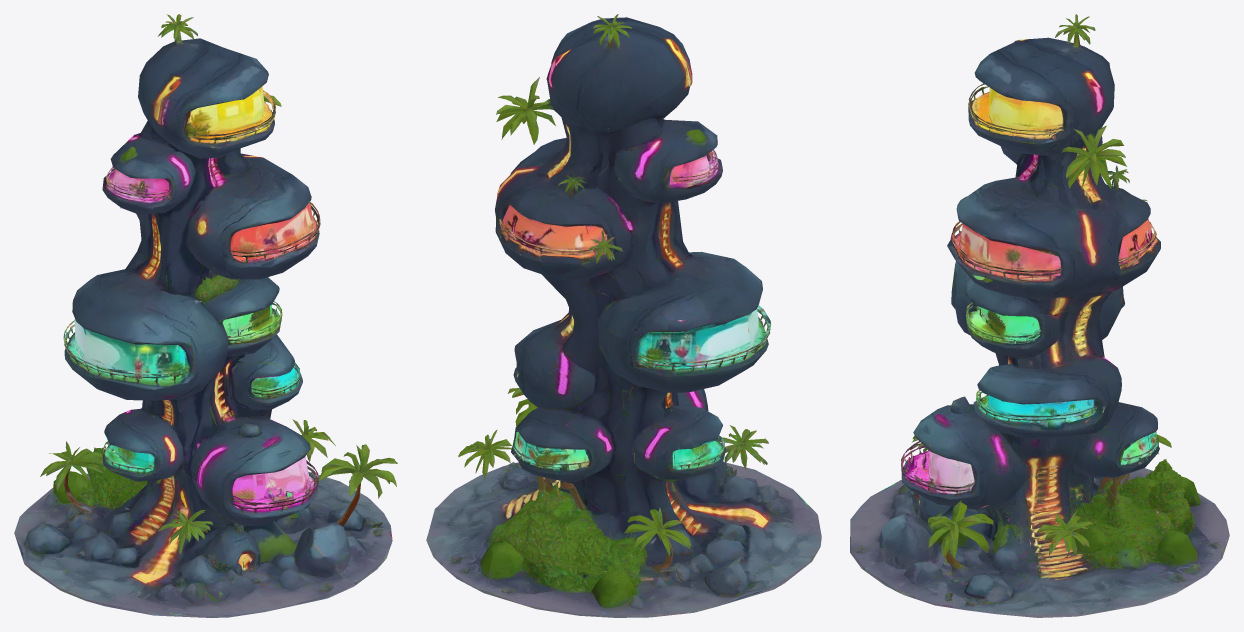
The model's file is bld-apartment-pod-block.glb.
3 views of the same model, side by side, from view 1: azimuth 30°, elevation 25°; view 2: azimuth 150°, elevation 25°; view 3: azimuth 270°, elevation 25° (orthographic). The views are drawn at different scales.
Visible parts, largest first — view 1: Mesh_0; view 2: Mesh_0; view 3: Mesh_0.
Part boxes in pixels (box(x1,y1,x2,y2)): Mesh_0: box(14, 14, 397, 617); Mesh_0: box(426, 14, 821, 617); Mesh_0: box(850, 14, 1229, 617).
Bounding box in the file's own units: 1.27 × 1.9 × 1.27.
Materials: 1 (1 with a texture image).
